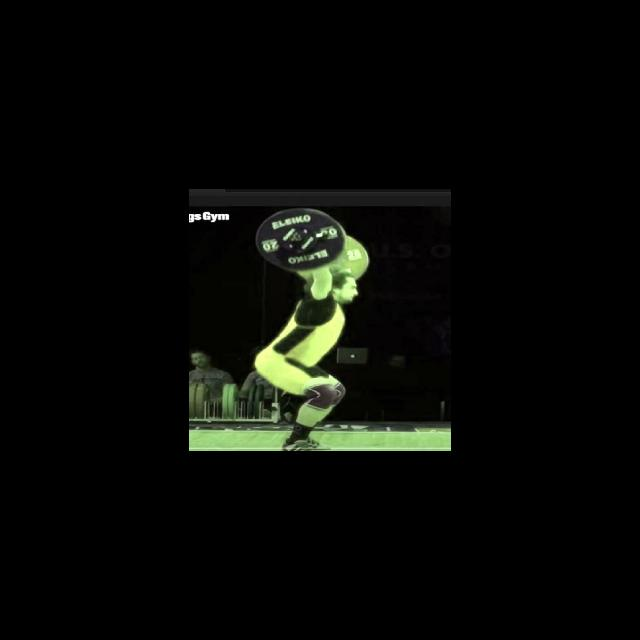barbell: (252, 207, 350, 273)
